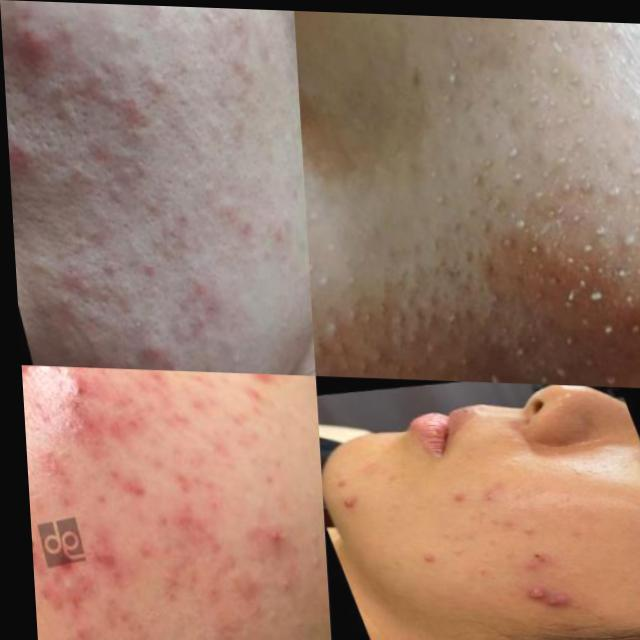8: (129, 544, 200, 615), (158, 487, 223, 563), (20, 440, 78, 508), (1, 12, 61, 66), (205, 104, 261, 149), (225, 555, 267, 605), (133, 60, 175, 105), (125, 326, 165, 369), (57, 373, 101, 412), (399, 548, 446, 581), (427, 484, 472, 518), (6, 133, 35, 173), (263, 563, 295, 597), (509, 547, 552, 571), (180, 270, 211, 303), (227, 53, 258, 85), (165, 203, 195, 234), (47, 288, 77, 317), (191, 291, 218, 323), (228, 213, 255, 242), (134, 256, 157, 281), (219, 347, 242, 371)
9: (247, 513, 289, 558), (319, 492, 356, 521), (465, 483, 502, 510), (501, 522, 539, 543)
blackheads: (37, 559, 96, 627), (111, 467, 163, 515), (229, 371, 292, 401), (79, 545, 119, 579), (17, 365, 57, 390), (532, 593, 575, 612), (498, 581, 539, 600)
dark spot: (312, 238, 583, 381), (390, 39, 545, 243), (528, 216, 640, 384), (533, 121, 640, 232), (507, 15, 611, 126), (603, 171, 640, 318), (61, 70, 90, 101), (107, 65, 137, 94), (90, 250, 116, 282), (87, 68, 111, 101)
